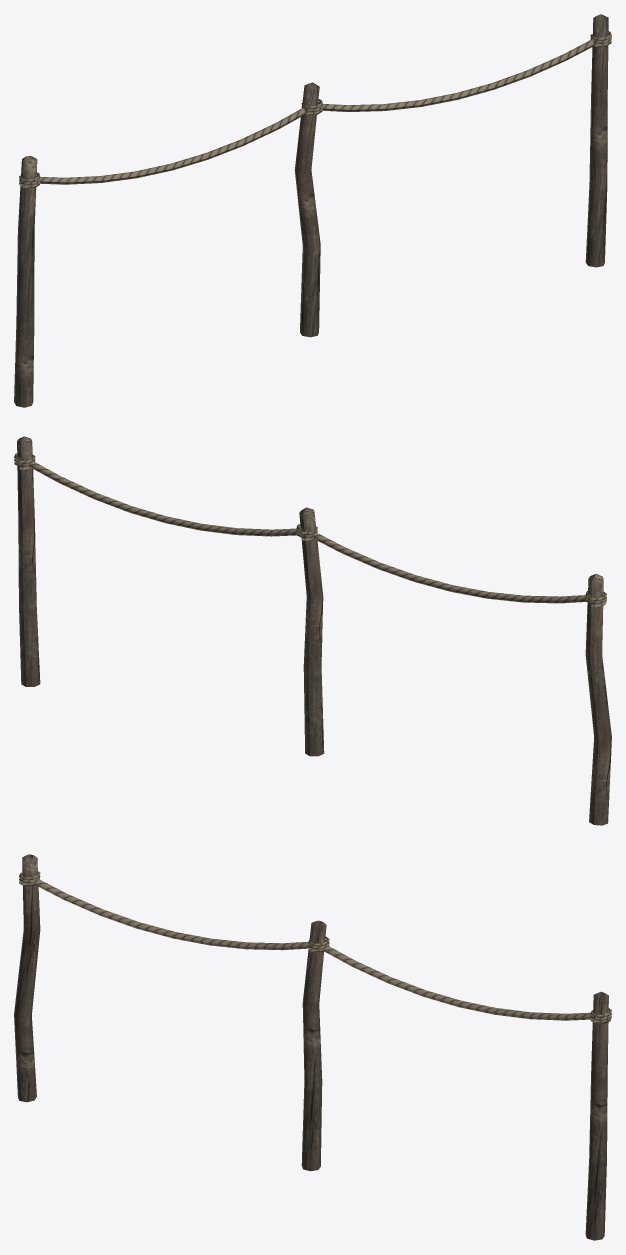
File: cw_rope_rail.glb
3 views of the same model, one above another, from view 1: azimuth 30°, elevation 25°; view 2: azimuth 150°, elevation 25°; view 3: azimuth 330°, elevation 25° (orthographic).
Visible parts, largest first — view 1: cw_rope_rail; view 2: cw_rope_rail; view 3: cw_rope_rail.
Part boxes in pixels (bbox=[...]): cw_rope_rail: bbox=[14, 14, 611, 407]; cw_rope_rail: bbox=[14, 436, 611, 825]; cw_rope_rail: bbox=[14, 854, 611, 1240].
Size of the model in its own units: 3.13 by 1.24 by 0.1422.
1 material, 1 textured.
